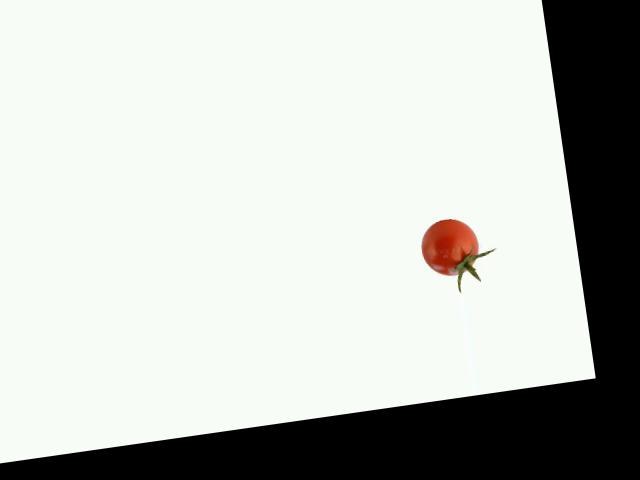tomato: (417, 215, 480, 278)
